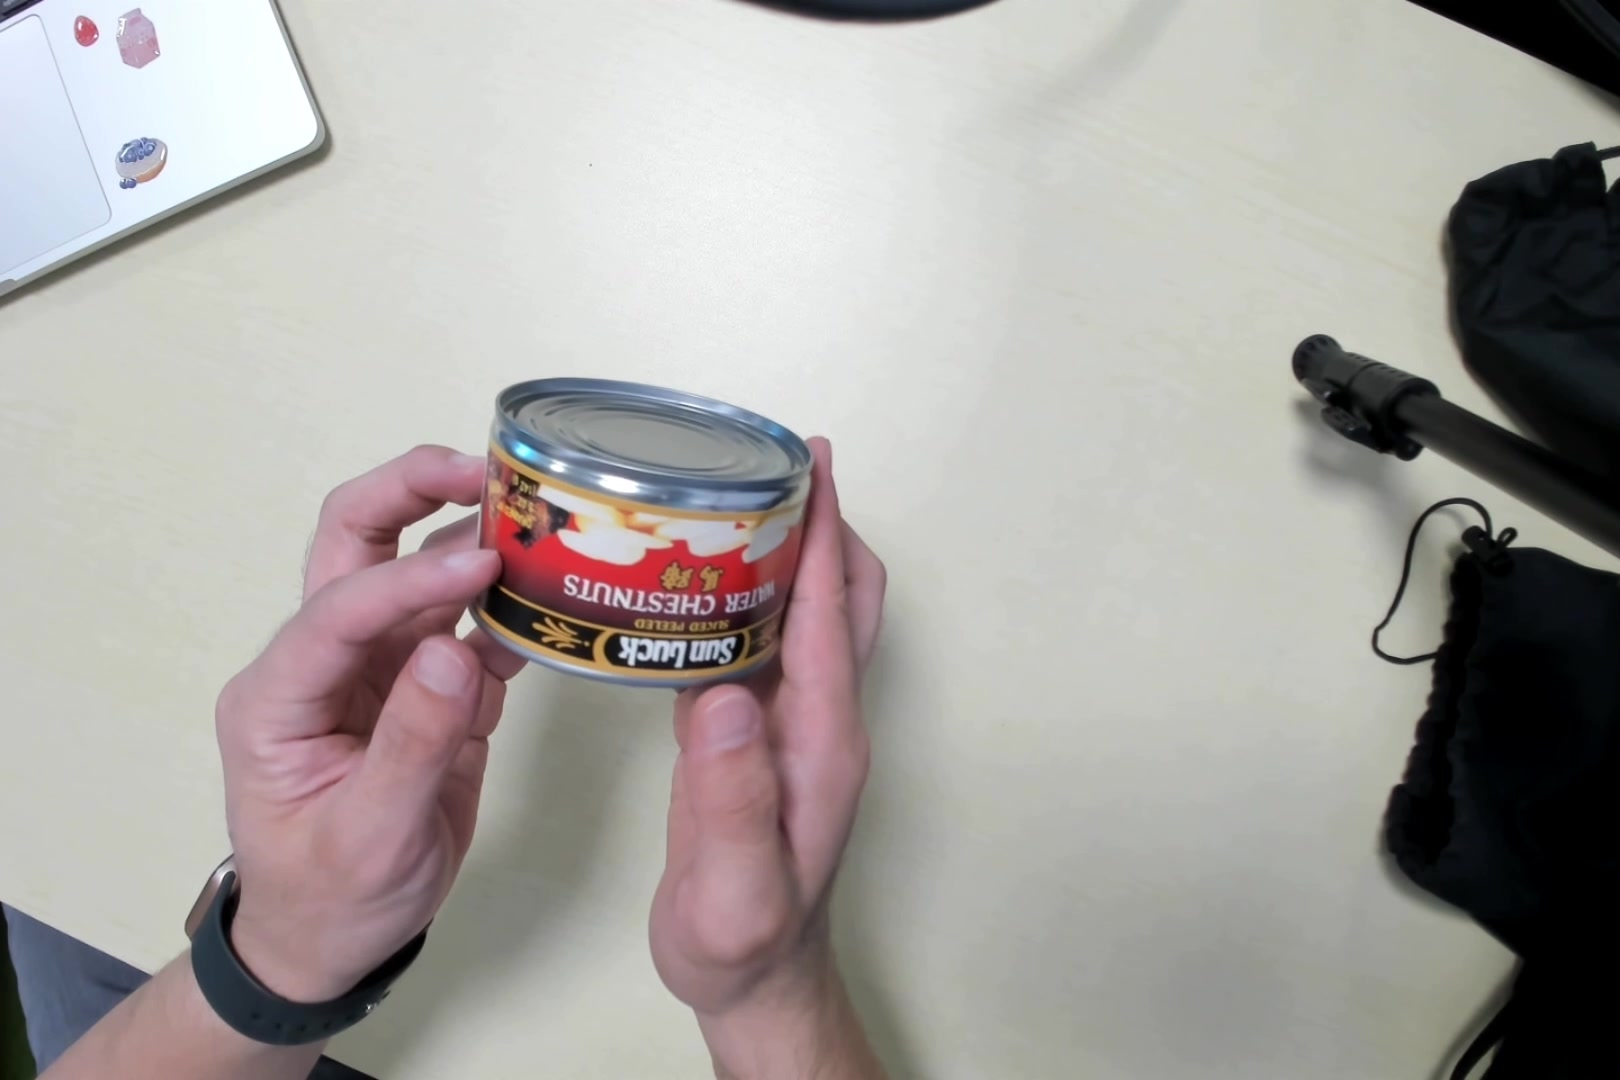CannedVegetarianFood_100-199g_Halal_NonHealthy: (475, 378, 808, 680)
